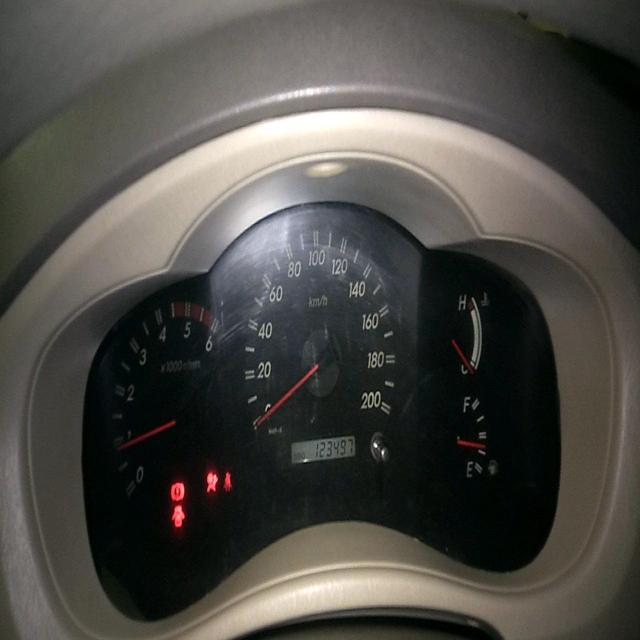odometer: (315, 437, 354, 458)
